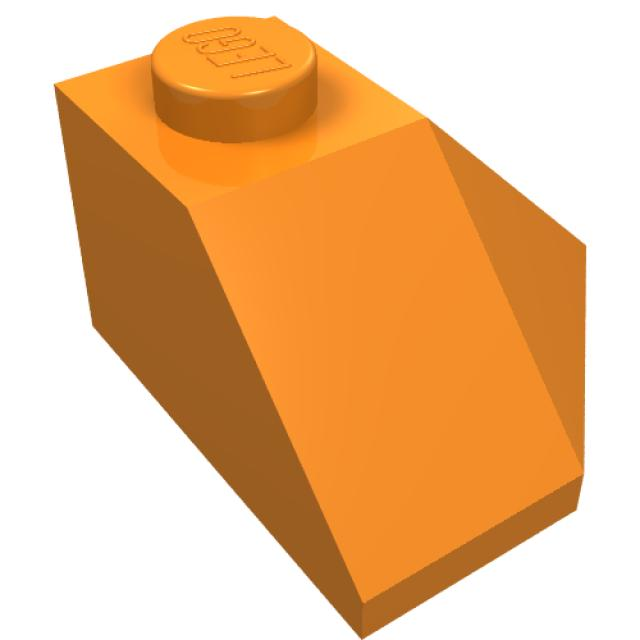Orange_Small: (54, 15, 588, 640)
